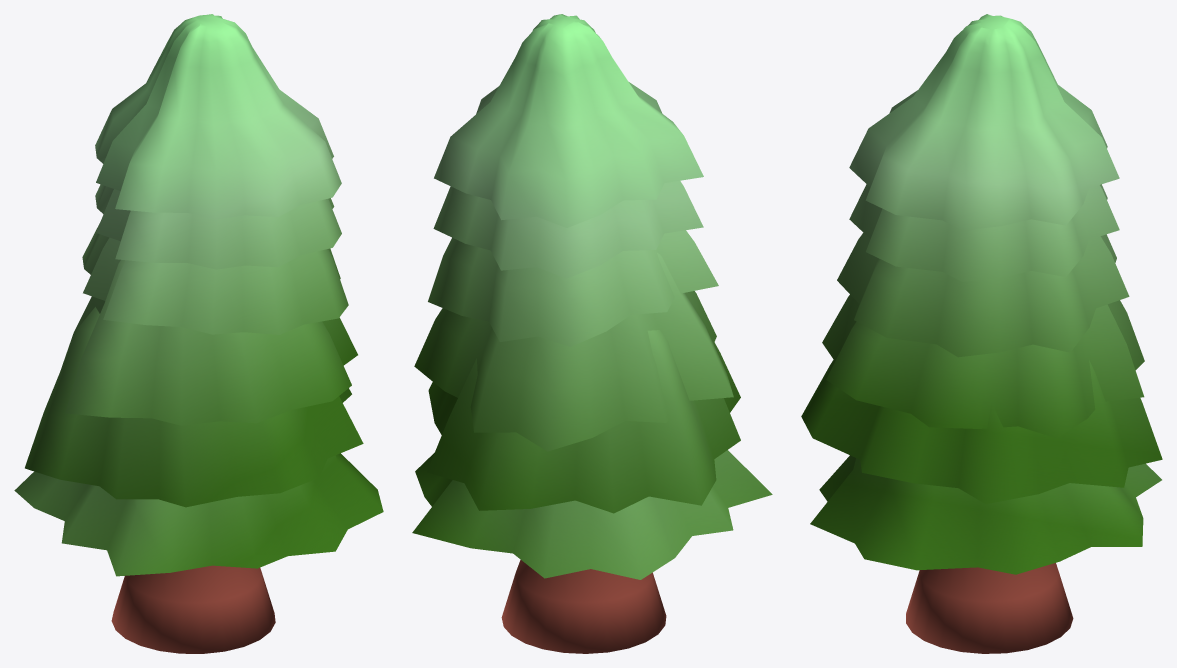
The model's file is gradient_tree_01.glb.
The picture shows the model from 3 angles, left to right: view 1: azimuth 30°, elevation 25°; view 2: azimuth 150°, elevation 25°; view 3: azimuth 270°, elevation 25°; orthographic projection. The views are drawn at different scales.
Parts seen in each view (by area): view 1: Circle.005, Circle.001, Circle.002, Circle, Circle.003, Circle.004, Circle.006; view 2: Circle.005, Circle.002, Circle.001, Circle, Circle.003, Circle.004, Circle.006; view 3: Circle.005, Circle.002, Circle, Circle.001, Circle.003, Circle.004, Circle.006.
Part boxes in pixels (<box>): Circle.005: <box>95,14,341,219</box>; Circle.001: <box>25,307,363,507</box>; Circle.002: <box>61,260,357,425</box>; Circle: <box>14,453,383,576</box>; Circle.003: <box>82,223,348,334</box>; Circle.004: <box>95,184,341,269</box>; Circle.006: <box>111,565,275,653</box>; Circle.005: <box>434,14,703,227</box>; Circle.002: <box>414,253,733,451</box>; Circle.001: <box>427,330,740,513</box>; Circle: <box>412,450,772,579</box>; Circle.003: <box>428,230,718,346</box>; Circle.004: <box>433,181,703,278</box>; Circle.006: <box>501,559,666,653</box>; Circle.005: <box>849,14,1119,230</box>; Circle.002: <box>822,294,1144,438</box>; Circle: <box>810,455,1161,574</box>; Circle.001: <box>801,359,1162,504</box>; Circle.003: <box>837,233,1129,357</box>; Circle.004: <box>849,184,1119,281</box>; Circle.006: <box>906,563,1073,653</box>.
Bounding box in the file's own units: 2.49 × 4.71 × 2.54.
2 materials, 1 textured.
